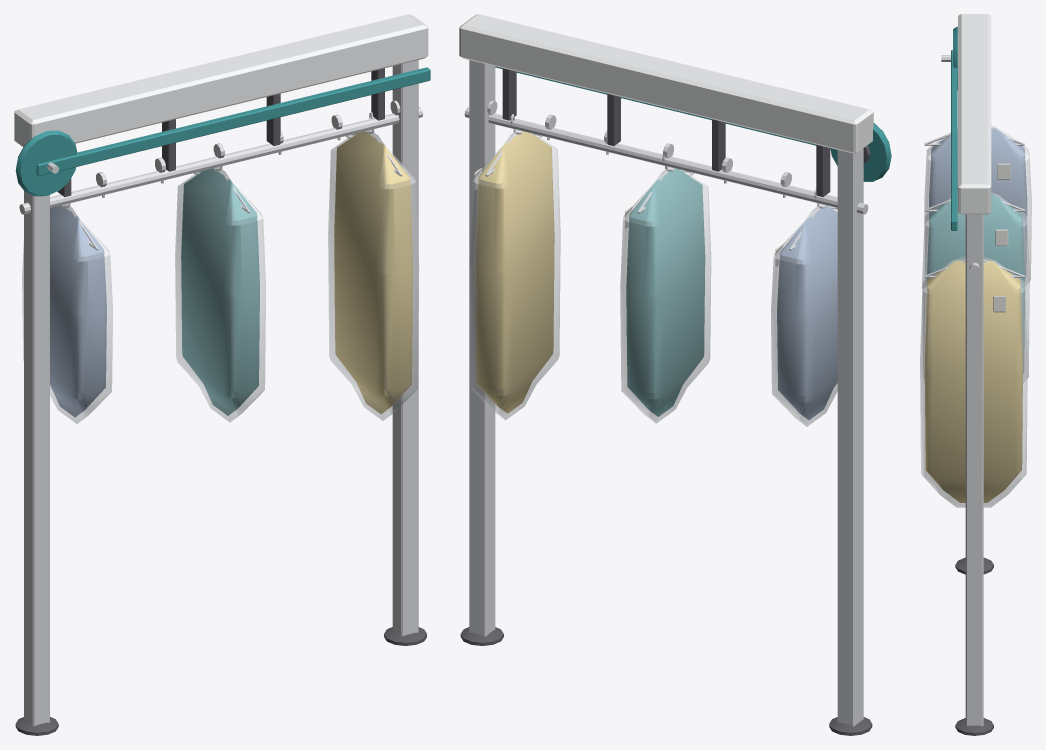
Rendered from dry-cleaners-and-alterations-shop-garment-conveyor-rai-8d36cdc0__34938.glb.
3 views of the same model, side by side, from view 1: azimuth 30°, elevation 25°; view 2: azimuth 150°, elevation 25°; view 3: azimuth 270°, elevation 25° (orthographic). The views are drawn at different scales.
Parts seen in each view (by area): view 1: garment-conveyor-rail-sparse, rail-wheel/accent; view 2: garment-conveyor-rail-sparse, rail-wheel/accent; view 3: garment-conveyor-rail-sparse, rail-wheel/accent.
Boxes of the visible parts, box(x1,y1,x2,y2) form: garment-conveyor-rail-sparse: box(14, 14, 430, 735); rail-wheel/accent: box(15, 130, 77, 196); garment-conveyor-rail-sparse: box(459, 14, 873, 735); rail-wheel/accent: box(830, 123, 891, 181); garment-conveyor-rail-sparse: box(920, 14, 1031, 735); rail-wheel/accent: box(953, 26, 957, 89).
Size of the model in its own units: 1.68 by 2.36 by 0.4365.
